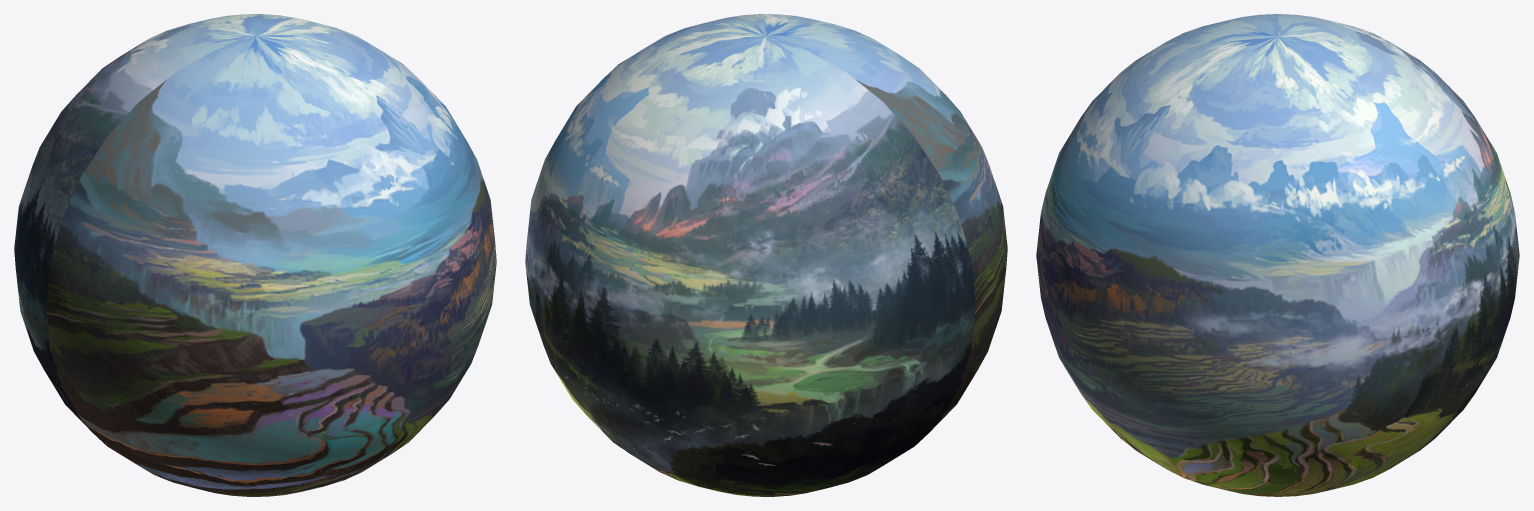
File: skybox.dae
3 renders of one model, left to right at view 1: azimuth 30°, elevation 25°; view 2: azimuth 150°, elevation 25°; view 3: azimuth 270°, elevation 25°, orthographic.
Visible parts, largest first — view 1: Sphere; view 2: Sphere; view 3: Sphere.
Boxes of the visible parts, x1,y1,x2,y2 form: Sphere: [14, 14, 496, 496]; Sphere: [525, 14, 1007, 496]; Sphere: [1036, 14, 1519, 496].
Bounding box in the file's own units: 20 × 20 × 20.
Materials: 1 (1 with a texture image).
